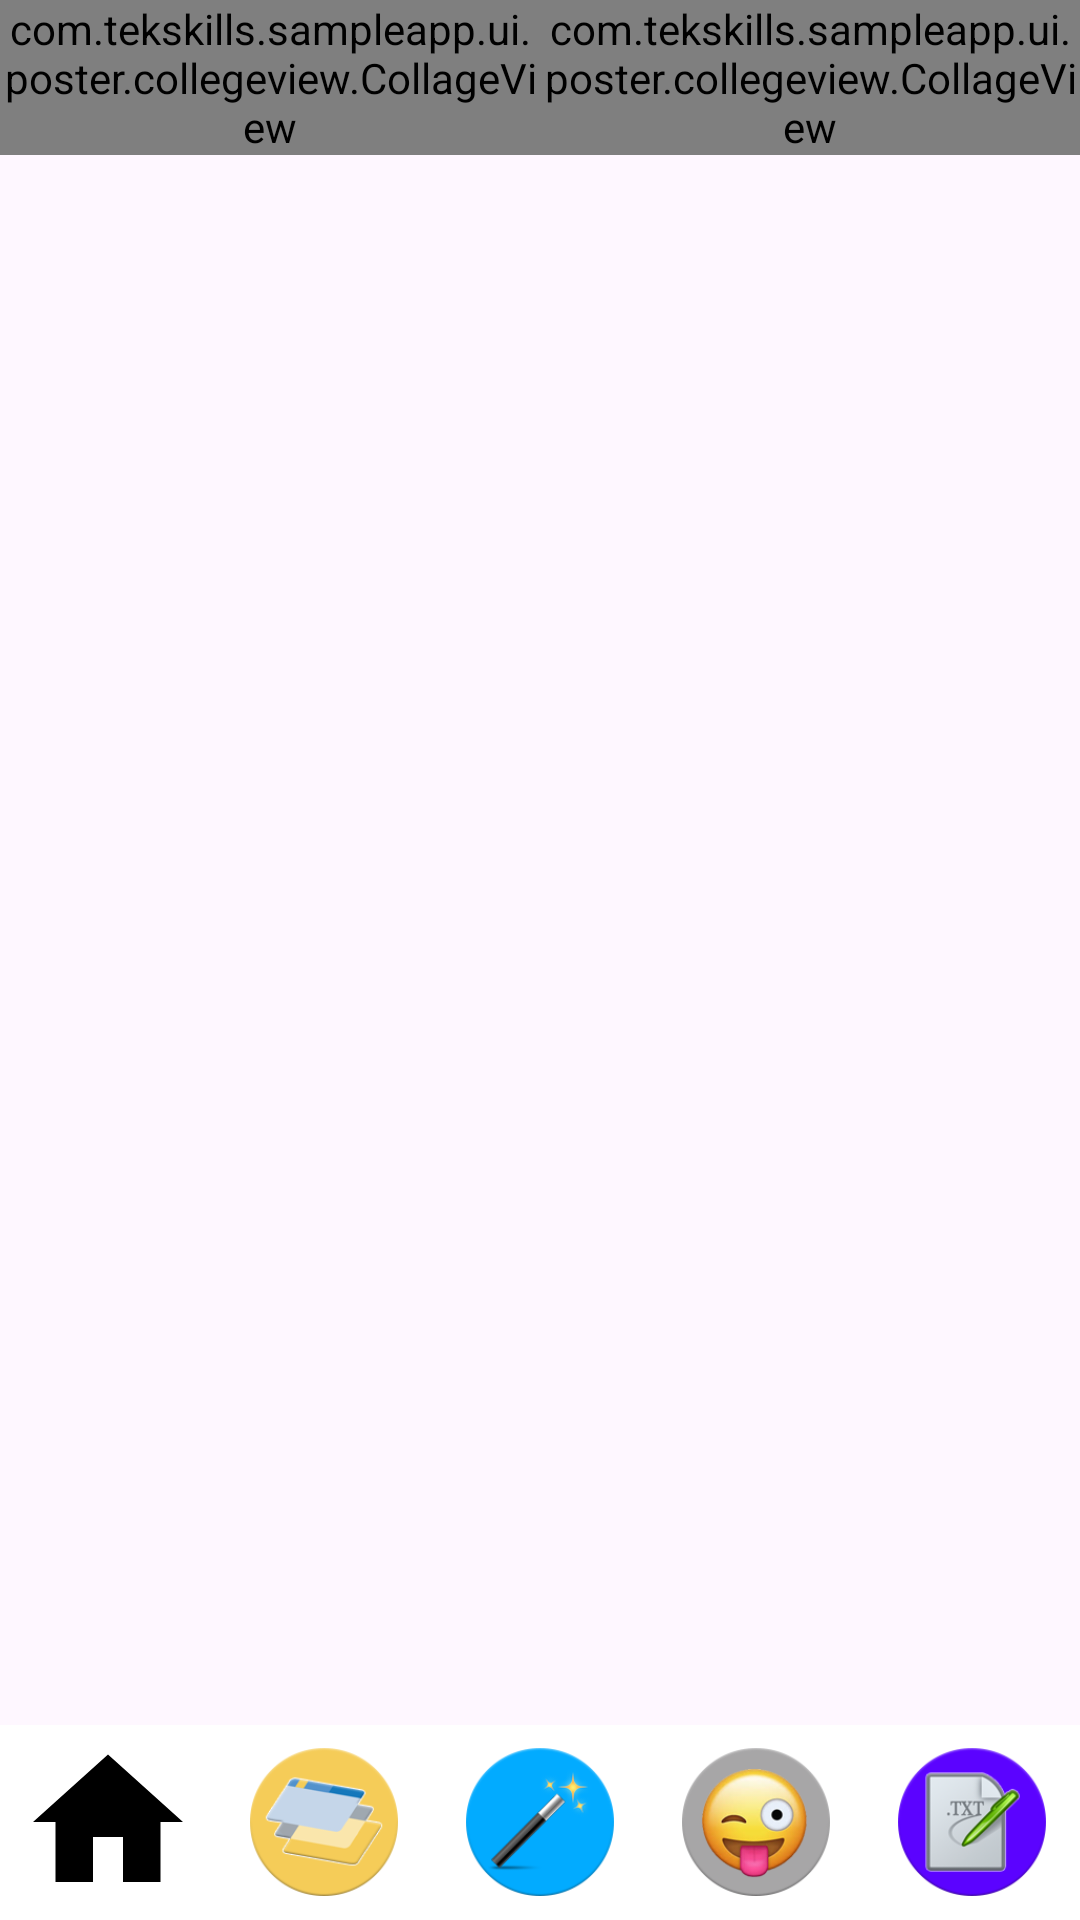

Named icons in this screenshot (1080 × 1920) and their centers, (x,y):
filter: (540,1822)
home: (108,1818)
stickers: (756,1822)
text: (972,1822)
